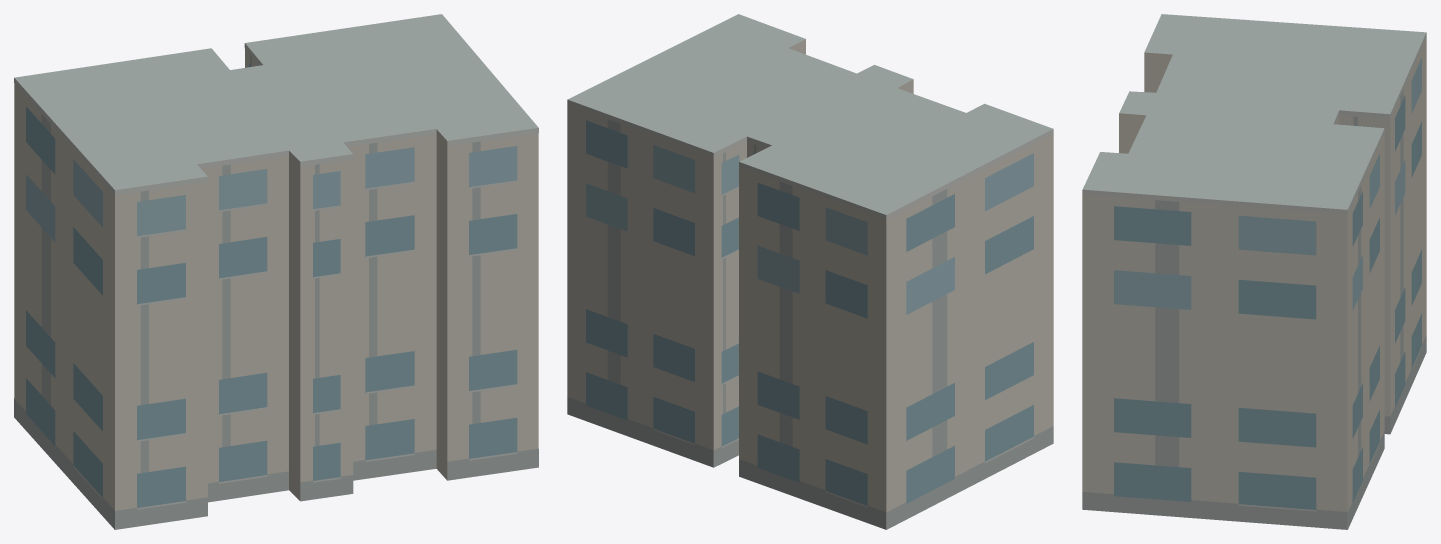
File: survey-upis-32836648.glb
3 renders of one model, left to right at view 1: azimuth 30°, elevation 25°; view 2: azimuth 150°, elevation 25°; view 3: azimuth 270°, elevation 25°, orthographic. The views are drawn at different scales.
Visible parts, largest first — view 1: survey-upis-32836648.tmp; view 2: survey-upis-32836648.tmp; view 3: survey-upis-32836648.tmp.
Part boxes in pixels (x1=…): survey-upis-32836648.tmp: x1=14, y1=14, x2=538, y2=529; survey-upis-32836648.tmp: x1=567, y1=14, x2=1053, y2=529; survey-upis-32836648.tmp: x1=1082, y1=14, x2=1426, y2=529.
Size of the model in its own units: 20.74 by 15.8 by 15.4.
